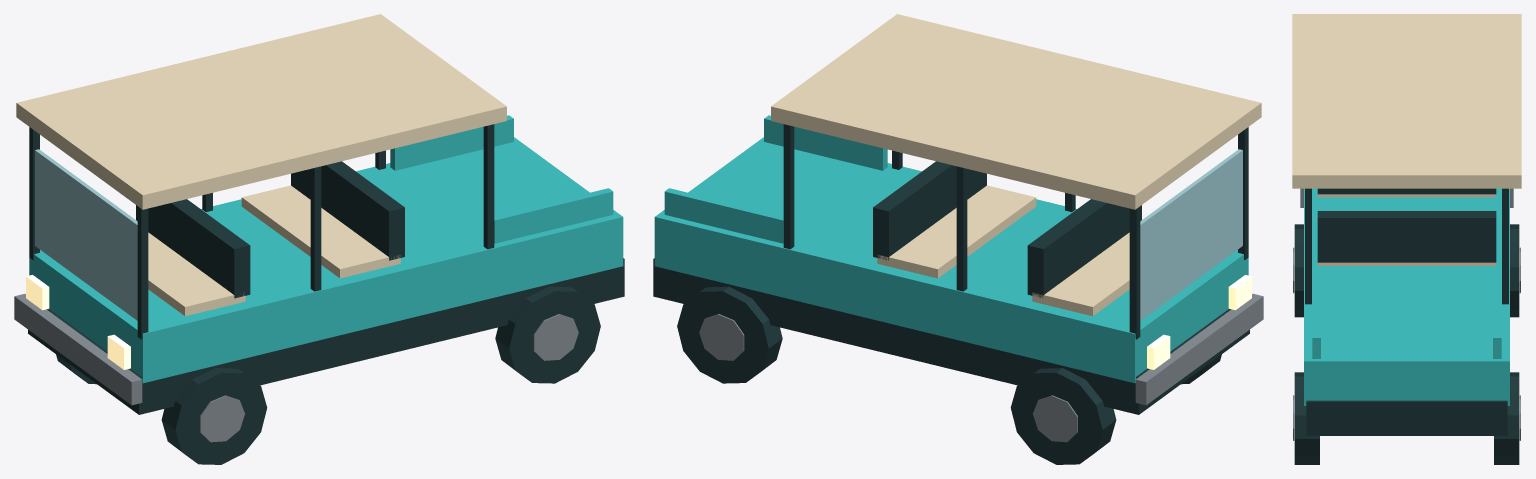
Rendered from keeper_buggy.fbx.
The picture shows the model from 3 angles, left to right: view 1: azimuth 30°, elevation 25°; view 2: azimuth 150°, elevation 25°; view 3: azimuth 270°, elevation 25°; orthographic projection. The views are drawn at different scales.
Visible parts, largest first — view 1: keeper_buggy; view 2: keeper_buggy; view 3: keeper_buggy.
Boxes of the visible parts, x1,y1,x2,y2 form: keeper_buggy: (14,14,624,464); keeper_buggy: (653,14,1263,464); keeper_buggy: (1292,14,1521,464).
Size of the model in its own units: 3.4 by 1.9 by 1.5.
